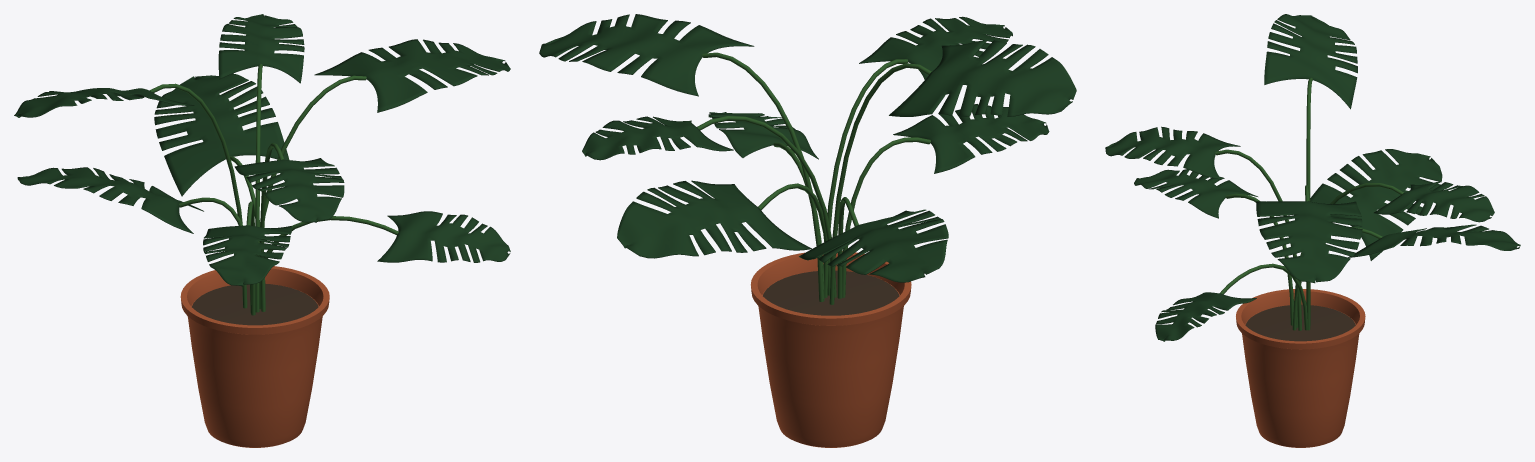
File: ref_Costela_de_Adao.glb
The picture shows the model from 3 angles, left to right: view 1: azimuth 30°, elevation 25°; view 2: azimuth 150°, elevation 25°; view 3: azimuth 270°, elevation 25°; orthographic projection. The views are drawn at different scales.
Parts seen in each view (by area): view 1: Vaso_Barro, Costela_Folha_2, Costela_Folha_0, Costela_Folha_7, Costela_Folha_6, Costela_Folha_1, Costela_Folha_5, Vaso_Barro_Det_Terra, Costela_Folha_3, Costela_Folha_4, Costela_Peciolo_4, Costela_Peciolo_1 (+2 smaller); view 2: Vaso_Barro, Costela_Folha_4, Costela_Folha_2, Costela_Folha_0, Costela_Folha_3, Costela_Folha_5, Vaso_Barro_Det_Terra, Costela_Folha_6, Costela_Folha_1, Costela_Folha_7, Costela_Peciolo_4, Costela_Peciolo_0 (+5 smaller); view 3: Vaso_Barro, Costela_Folha_0, Costela_Folha_3, Costela_Folha_4, Costela_Folha_6, Costela_Folha_1, Vaso_Barro_Det_Terra, Costela_Folha_5, Costela_Folha_2, Costela_Folha_7, Costela_Peciolo_6, Costela_Peciolo_4 (+2 smaller).
Boxes of the visible parts, bbox=[...] form: Vaso_Barro: bbox=[180, 266, 329, 447]; Costela_Folha_2: bbox=[154, 73, 289, 196]; Costela_Folha_0: bbox=[314, 39, 510, 112]; Costela_Folha_7: bbox=[377, 211, 510, 262]; Costela_Folha_6: bbox=[234, 158, 344, 222]; Costela_Folha_1: bbox=[218, 14, 304, 83]; Costela_Folha_5: bbox=[203, 225, 291, 286]; Vaso_Barro_Det_Terra: bbox=[192, 283, 318, 325]; Costela_Folha_3: bbox=[17, 167, 203, 233]; Costela_Folha_4: bbox=[14, 88, 194, 117]; Costela_Peciolo_4: bbox=[149, 83, 247, 308]; Costela_Peciolo_1: bbox=[255, 63, 262, 312]; Vaso_Barro: bbox=[750, 251, 911, 447]; Costela_Folha_4: bbox=[889, 40, 1076, 116]; Costela_Folha_2: bbox=[617, 180, 811, 258]; Costela_Folha_0: bbox=[539, 14, 754, 96]; Costela_Folha_3: bbox=[799, 209, 948, 282]; Costela_Folha_5: bbox=[893, 104, 1049, 173]; Vaso_Barro_Det_Terra: bbox=[763, 270, 899, 315]; Costela_Folha_6: bbox=[859, 16, 1012, 79]; Costela_Folha_1: bbox=[582, 116, 733, 160]; Costela_Folha_7: bbox=[708, 112, 818, 159]; Costela_Peciolo_4: bbox=[829, 63, 931, 304]; Costela_Peciolo_0: bbox=[702, 52, 823, 301]; Vaso_Barro: bbox=[1236, 289, 1365, 447]; Costela_Folha_0: bbox=[1256, 201, 1362, 283]; Costela_Folha_3: bbox=[1310, 149, 1442, 260]; Costela_Folha_4: bbox=[1264, 14, 1357, 109]; Costela_Folha_6: bbox=[1105, 126, 1240, 179]; Costela_Folha_1: bbox=[1373, 181, 1494, 222]; Vaso_Barro_Det_Terra: bbox=[1245, 304, 1355, 341]; Costela_Folha_5: bbox=[1134, 169, 1257, 218]; Costela_Folha_2: bbox=[1348, 224, 1520, 257]; Costela_Folha_7: bbox=[1155, 292, 1256, 341]; Costela_Peciolo_6: bbox=[1215, 149, 1302, 330]; Costela_Peciolo_4: bbox=[1306, 77, 1312, 325].
Size of the model in its own units: 1.63 by 1.22 by 1.37.
